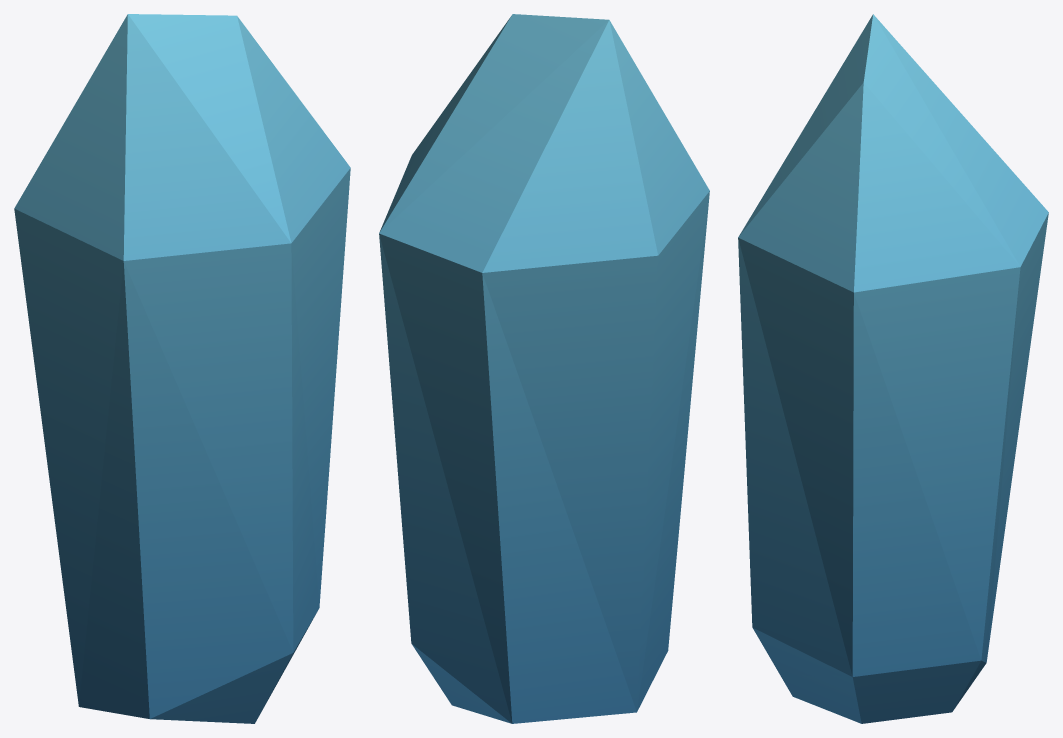
The model's file is Crystal_06.fbx.
The picture shows the model from 3 angles, left to right: view 1: azimuth 30°, elevation 25°; view 2: azimuth 150°, elevation 25°; view 3: azimuth 270°, elevation 25°; orthographic projection. The views are drawn at different scales.
Visible parts, largest first — view 1: Crystal_06; view 2: Crystal_06; view 3: Crystal_06.
Part boxes in pixels (left/top/right/bottom): Crystal_06: left=14, top=14, right=350, bottom=723; Crystal_06: left=379, top=14, right=709, bottom=723; Crystal_06: left=738, top=14, right=1048, bottom=723.
Size of the model in its own units: 0.434 by 0.9846 by 0.4299.
